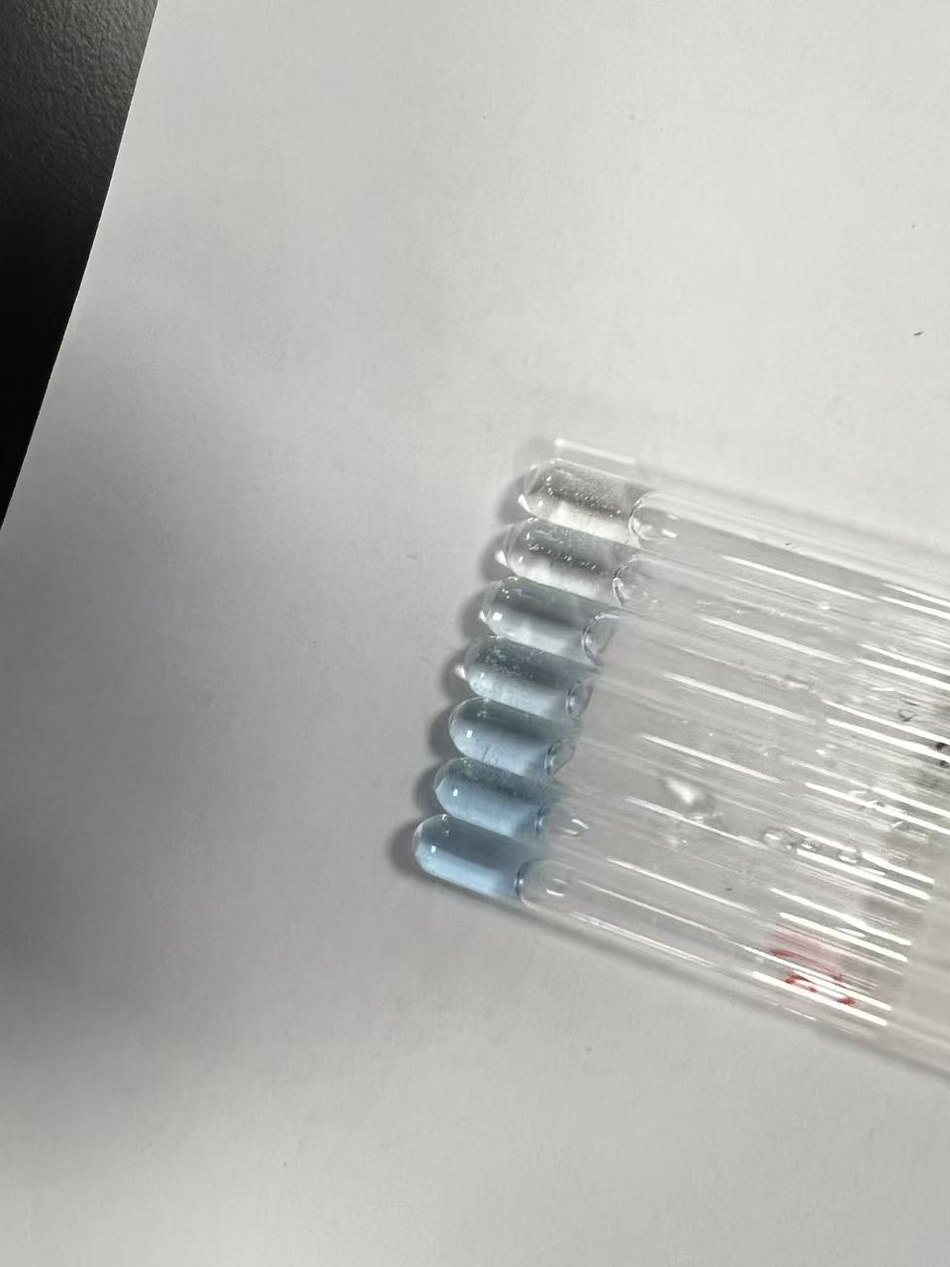drop: (413, 810, 537, 913), (520, 456, 653, 548), (477, 575, 604, 669), (463, 638, 586, 733), (503, 518, 631, 608), (448, 695, 564, 786), (433, 759, 550, 847)
